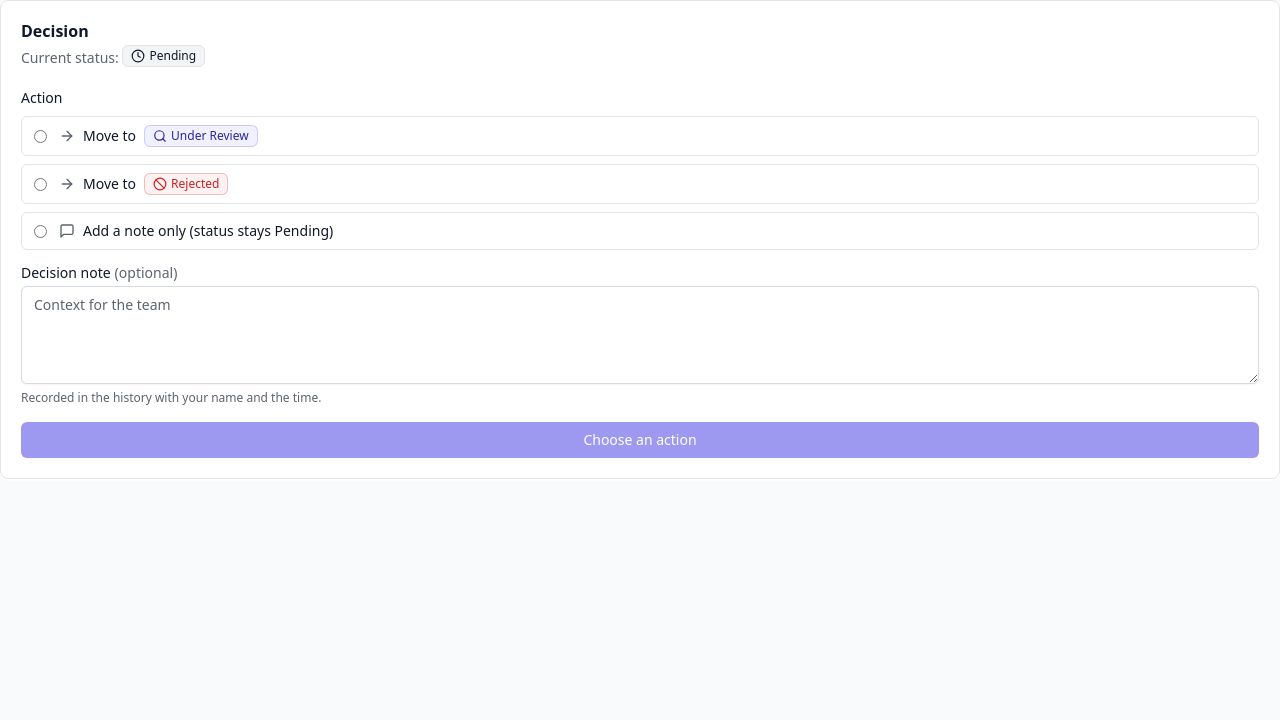
DecisionPanel › explains a conflict from another reviewer and keeps the note
Click the radio button labelled "Move to Under Review": (40, 136) [34, 130, 47, 142]
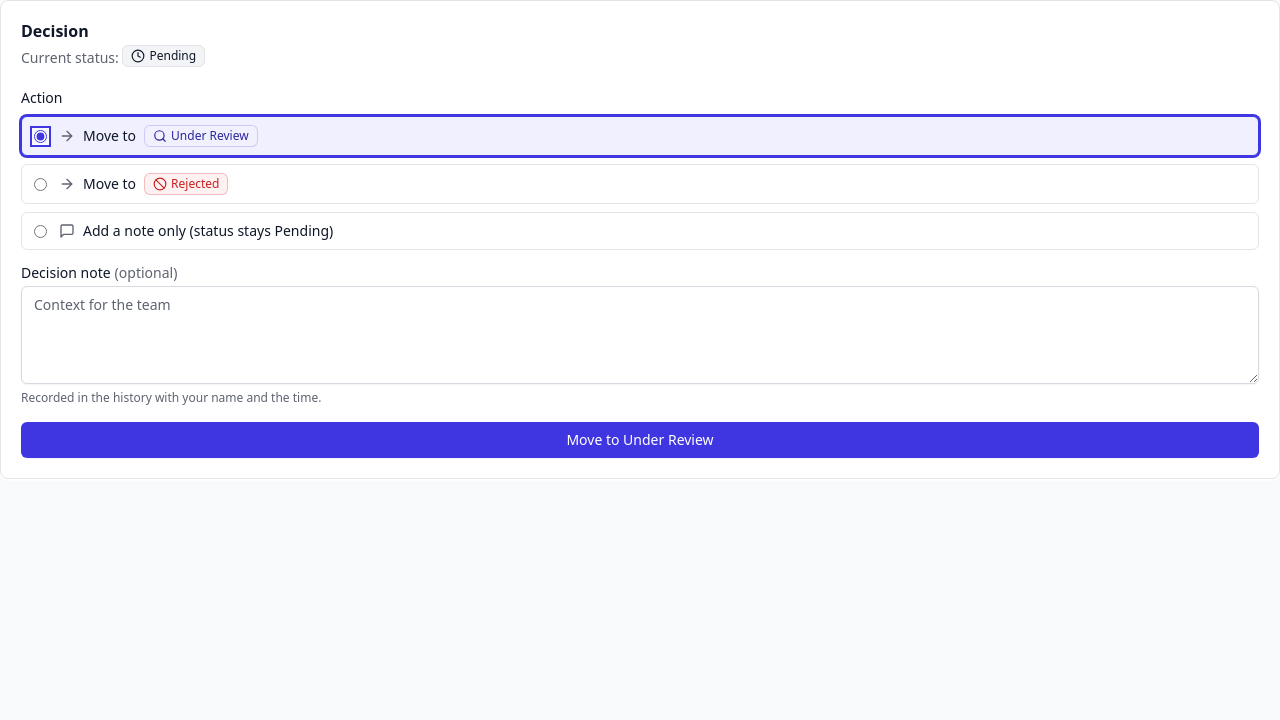
In the text box labelled "Decision note(optional)": (640, 335) [21, 286, 1259, 384], type "Looks promising"
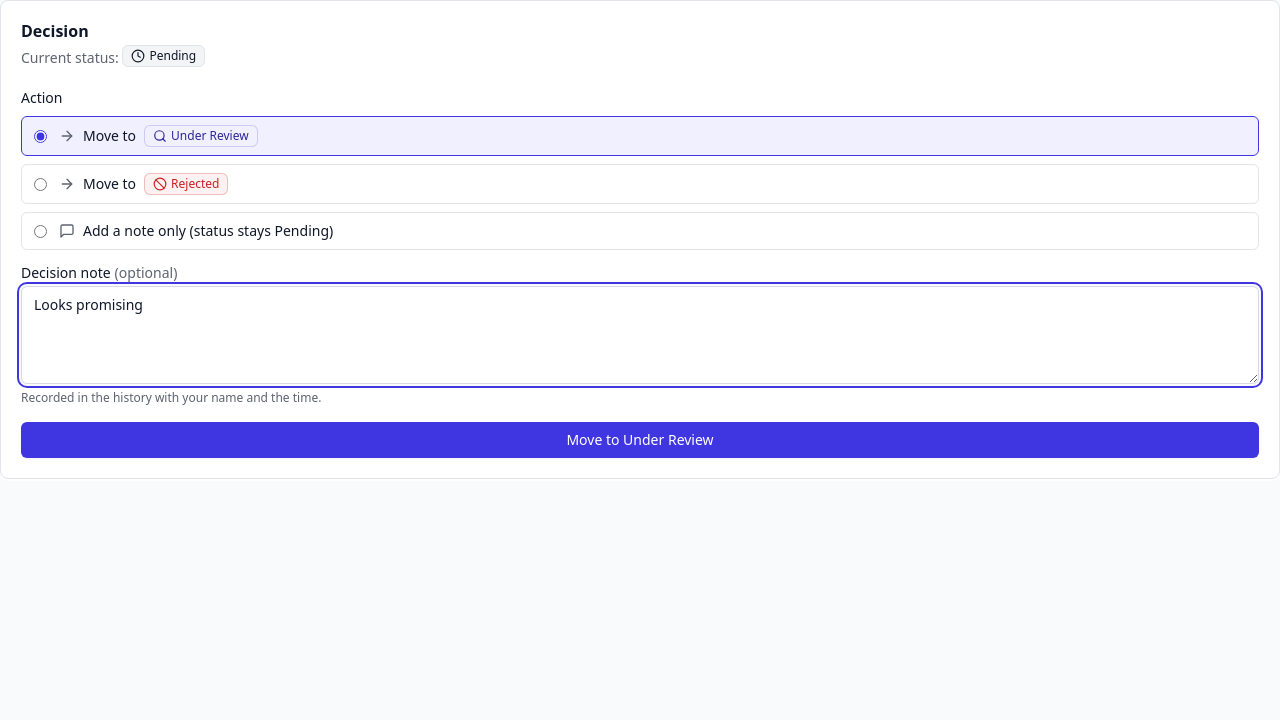
Click the button "Move to Under Review": (640, 440) [21, 422, 1259, 458]
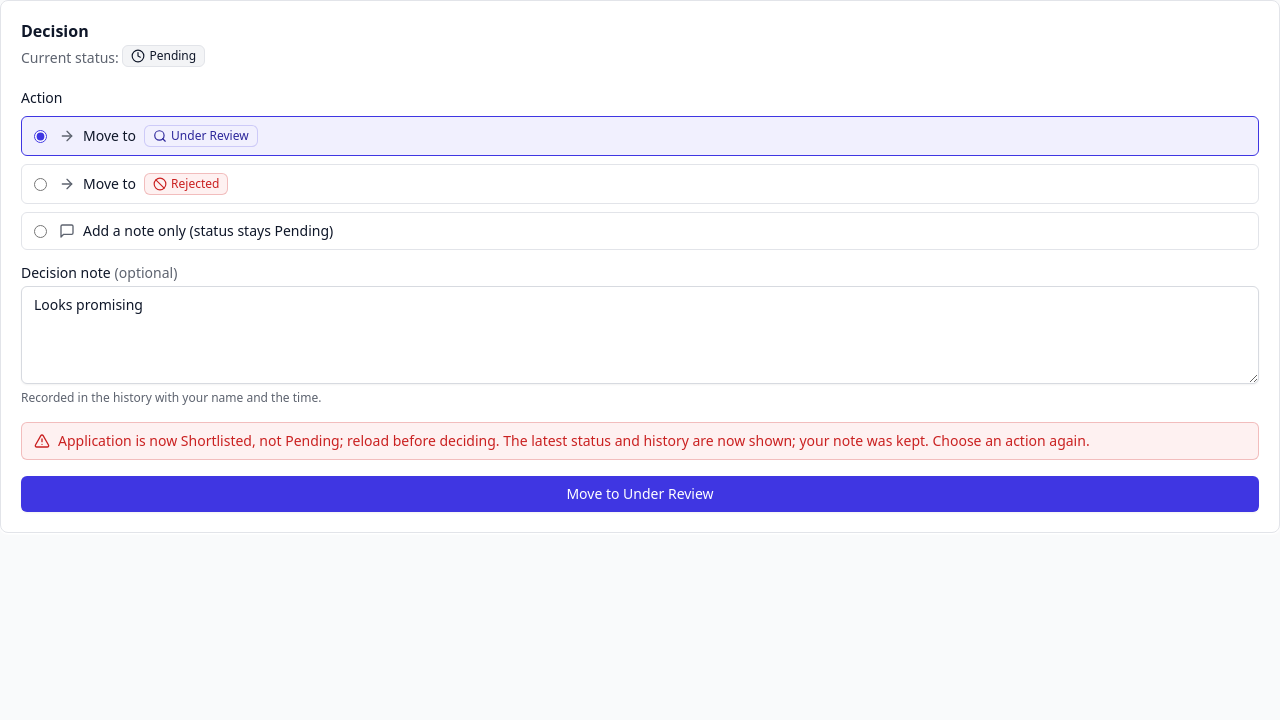
Now the message shows "Application is now Shortlisted, not Pending; reload before deciding. The latest status and history are now shown; your note was kept.", box [58, 431, 1090, 450]
